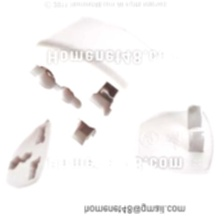three_eye_plug: (18, 7, 171, 158), (2, 112, 108, 217), (131, 101, 219, 203)
